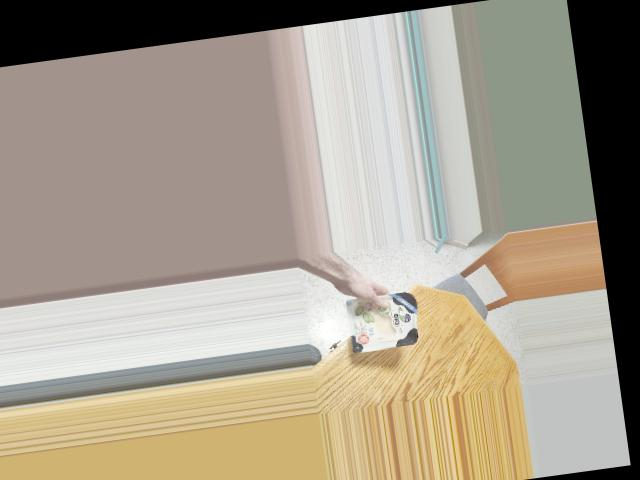cheese: (340, 286, 422, 353)
